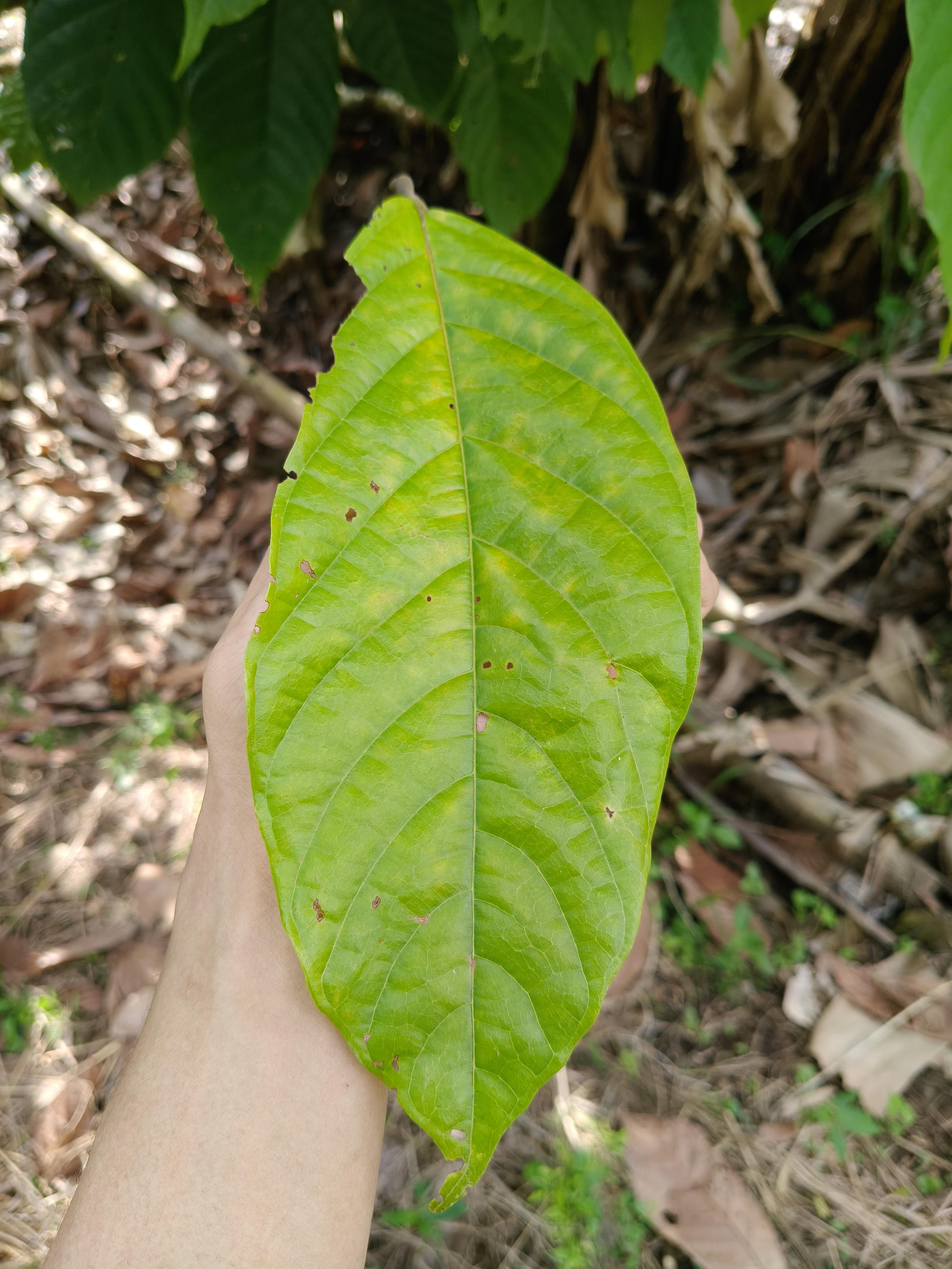deficiencia_potasio: (239, 201, 700, 1190)
